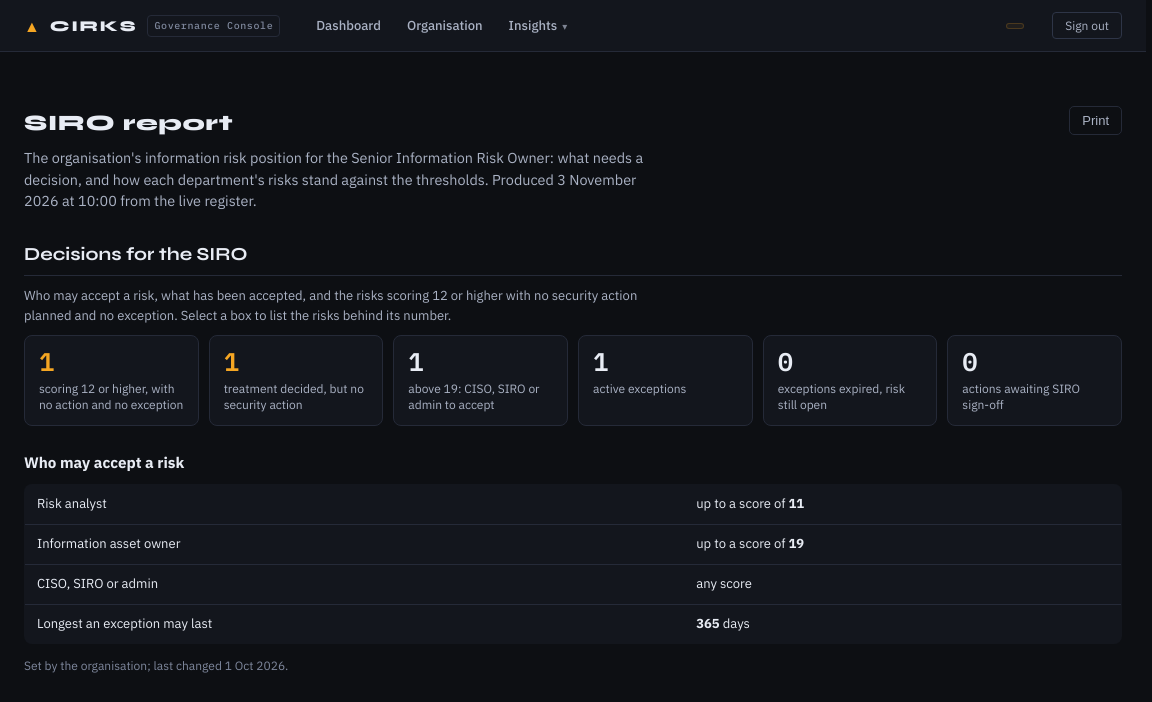
it: SIRO report › a headline box lists the risks behind its number and says where it comes from
Step 1. Click the button "1 treatment decided, but no security action" → (296, 381), box [209,336,383,426]
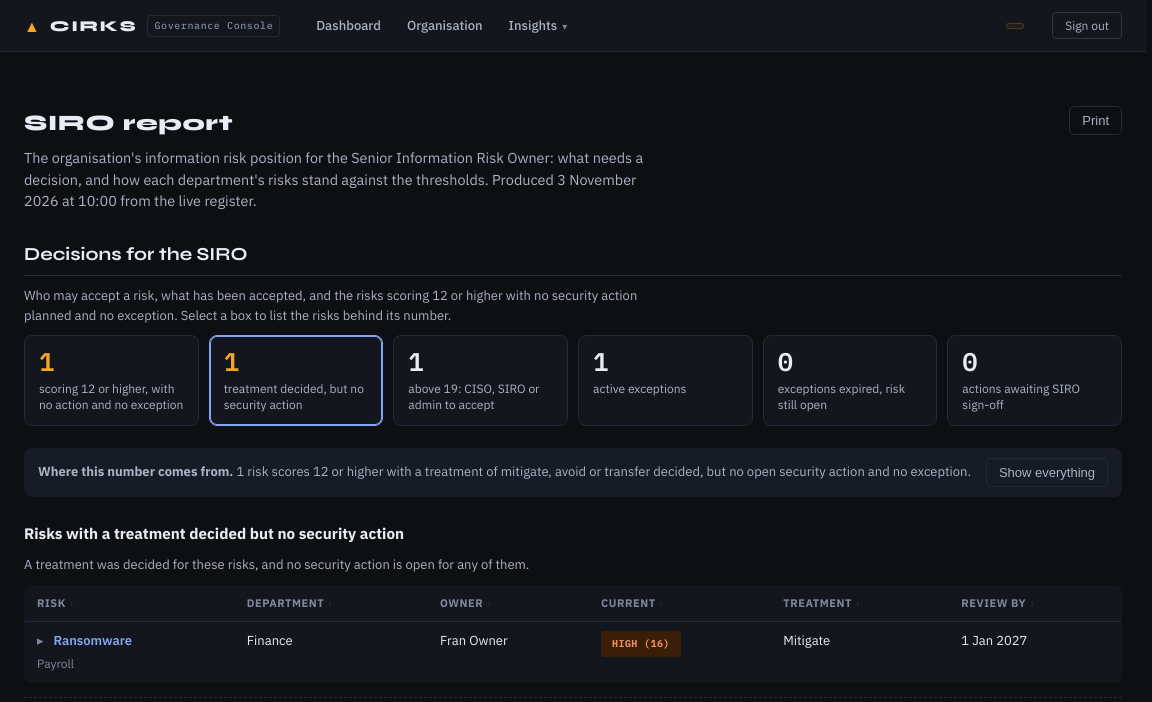
Expected: the heading "Risks with a treatment decided but no security action" is shown, [24,523,404,543]
Expected: the message shows "Where this number comes from", [38,463,233,480]
Step 2. Click the button "Show everything" → (1047, 472), box [986,458,1108,487]
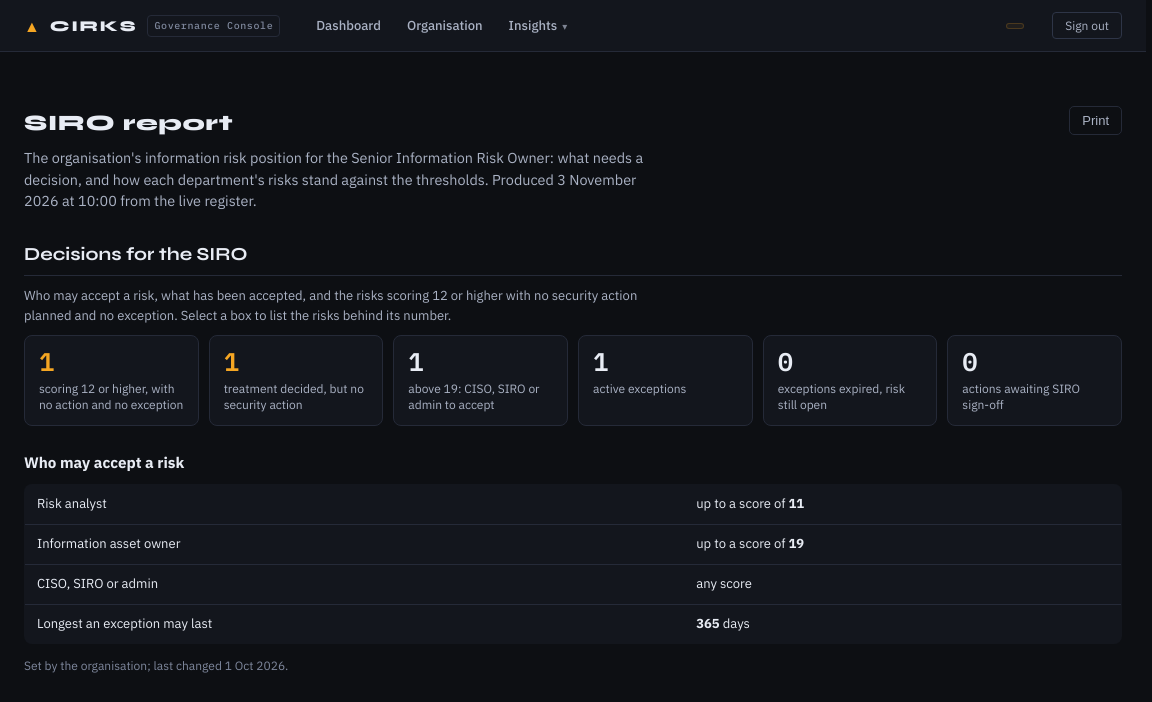
Expected: the heading "Who may accept a risk" is shown, [24,452,184,472]
